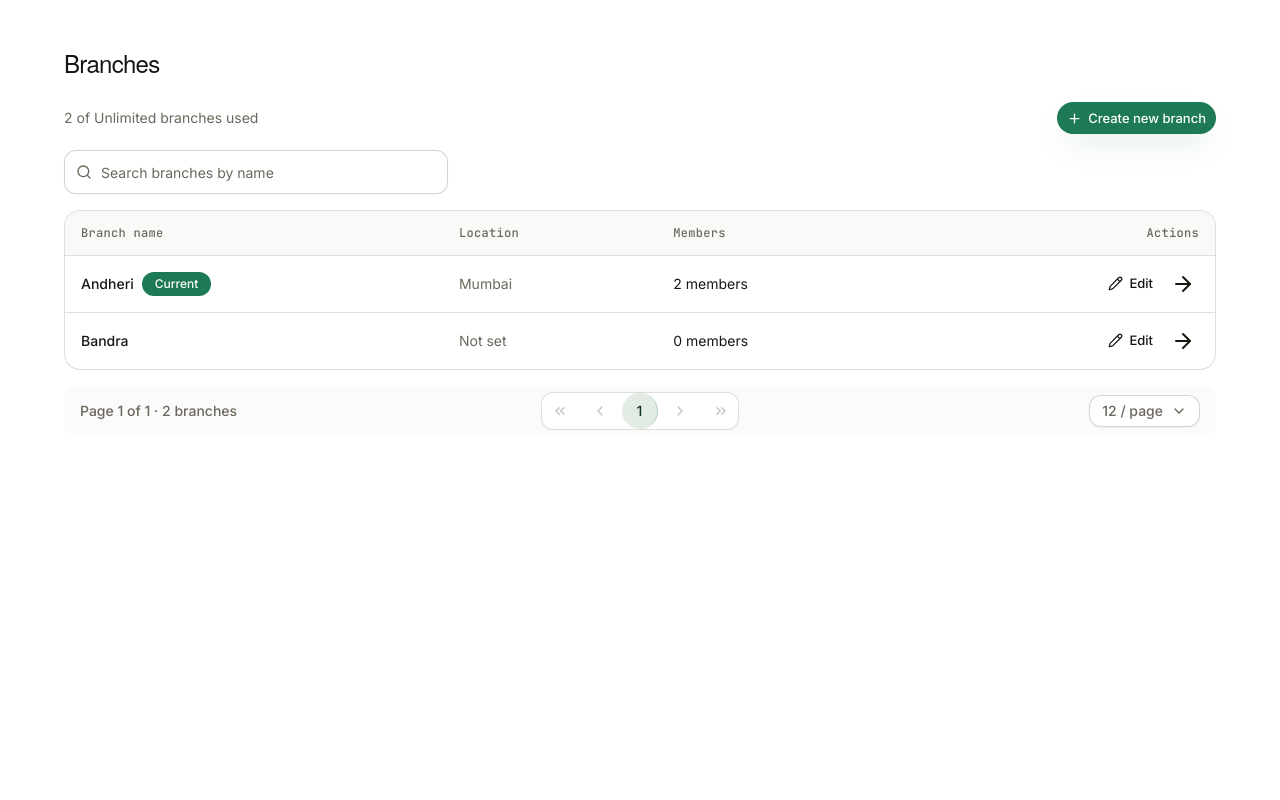
Scenario: DesignerBranches › edits a branch without opening the detail
Click the button with aria-label "Edit branch Andheri". click: (1131, 284)
box: [1098,268,1163,300]
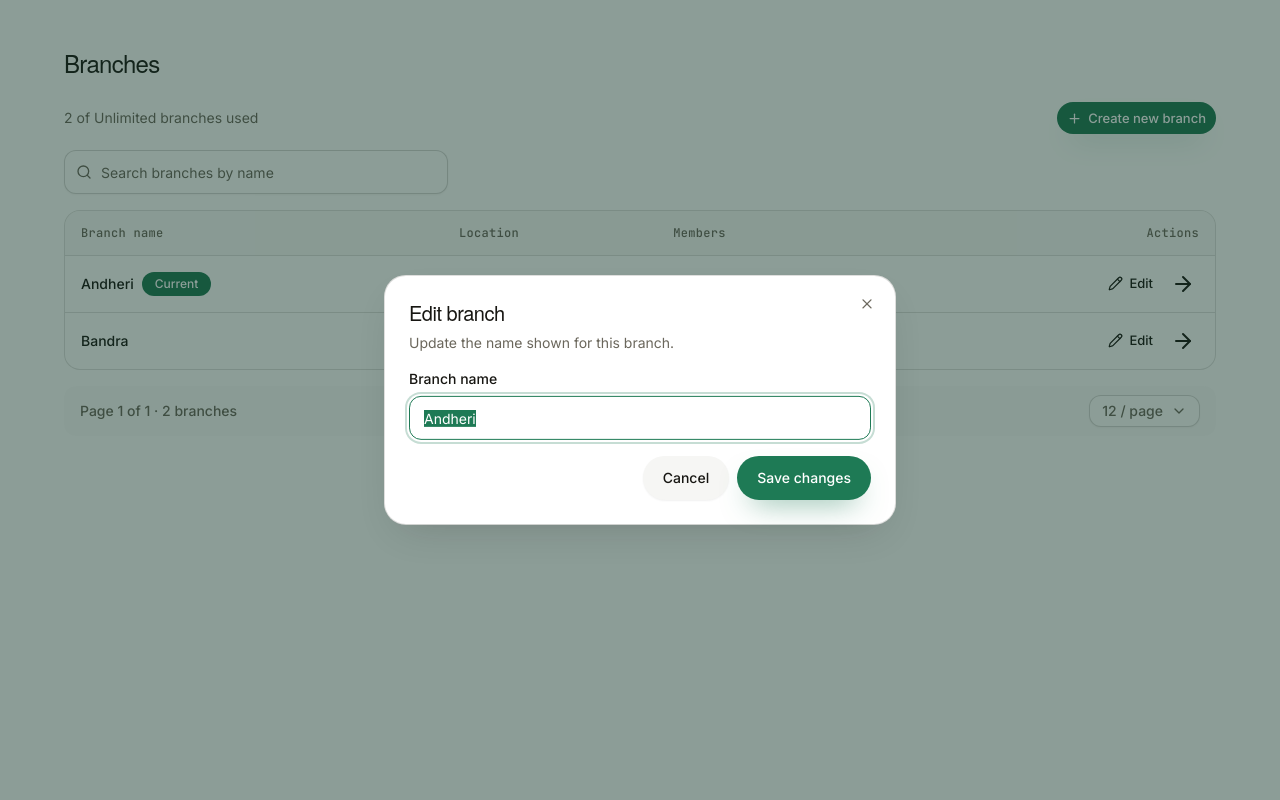
Replace the text in the field labelled "Branch name" with "Andheri West". click: (640, 418)
box: [409,396,871,440]
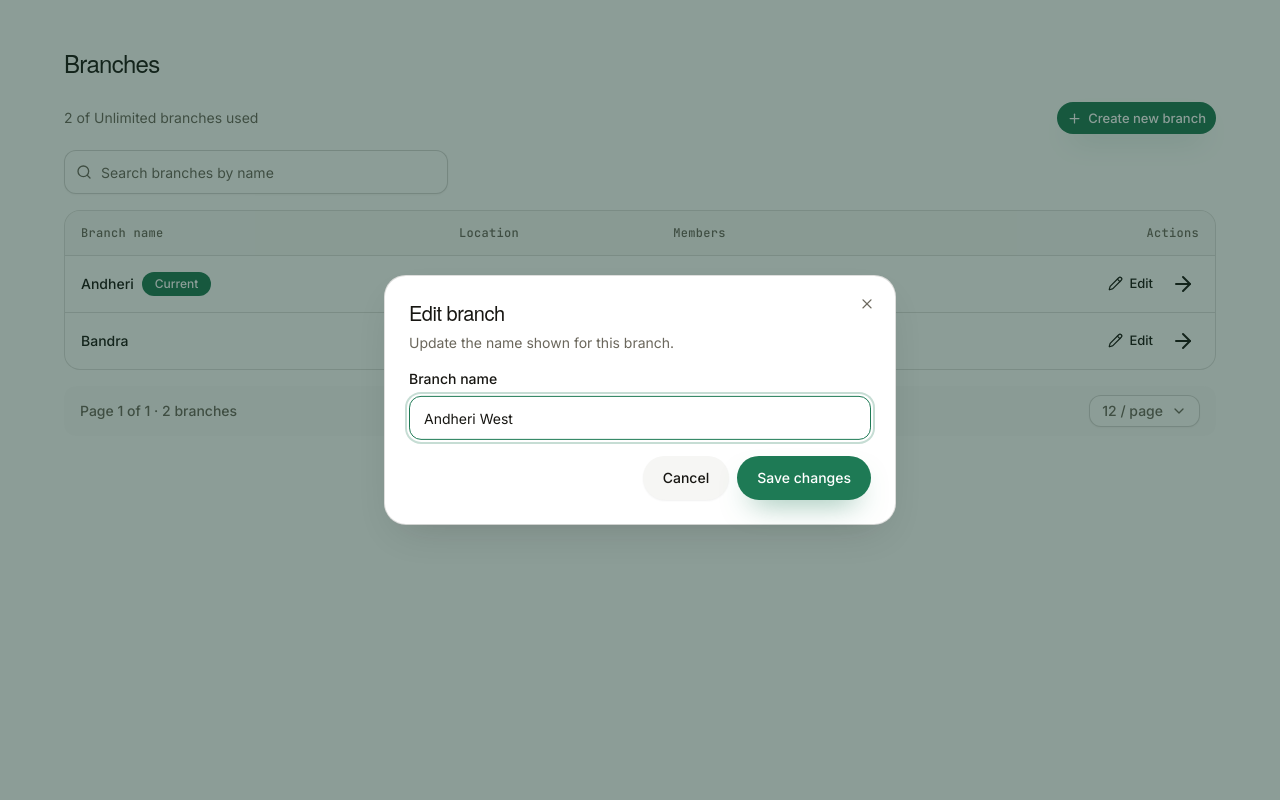
Click the button "Save changes". click: (804, 478)
box: [737,456,871,500]
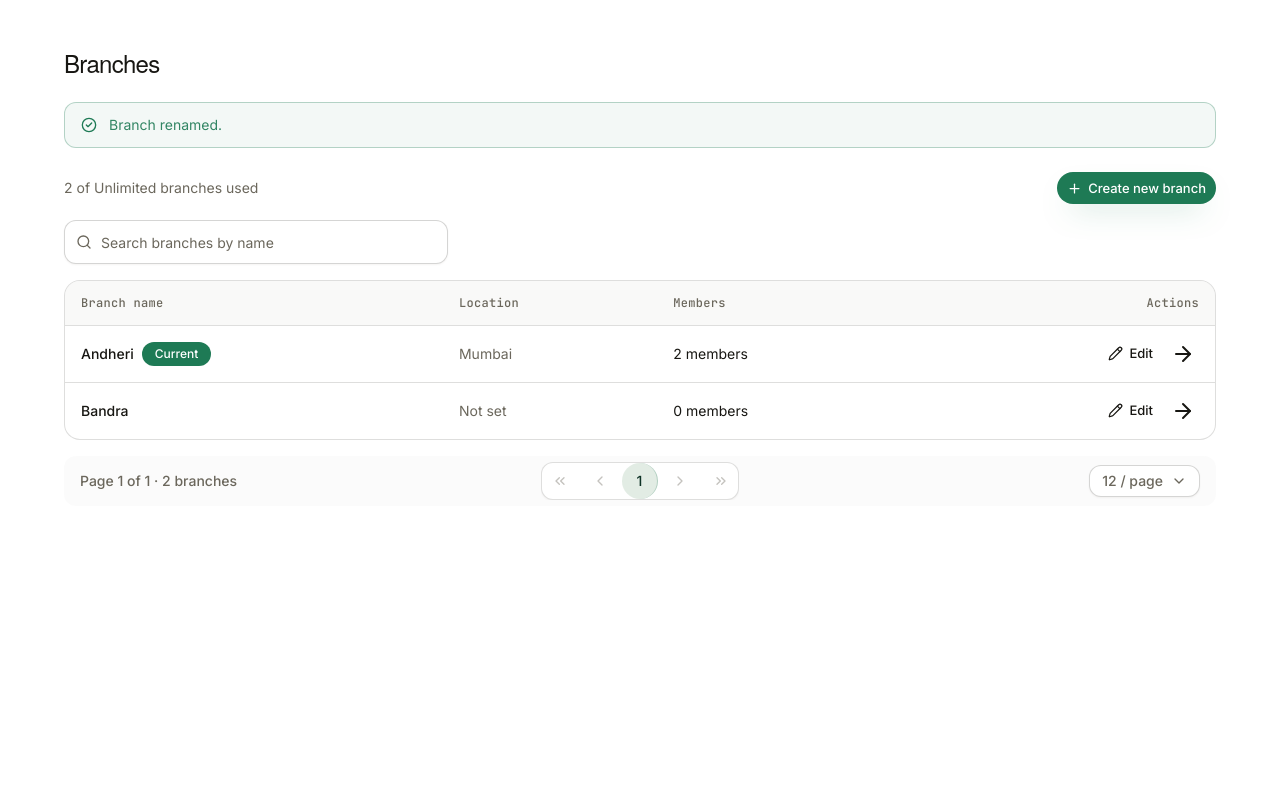
Expected: the message reads "Branch renamed.", [109,116,222,133]
